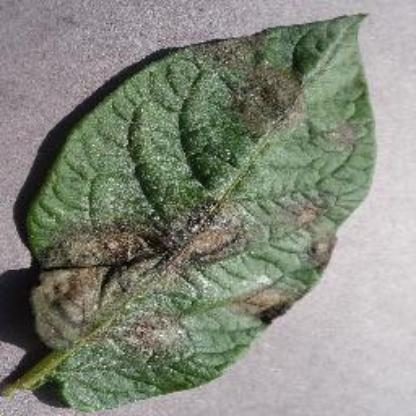Late-Blight: (16, 15, 382, 413)
